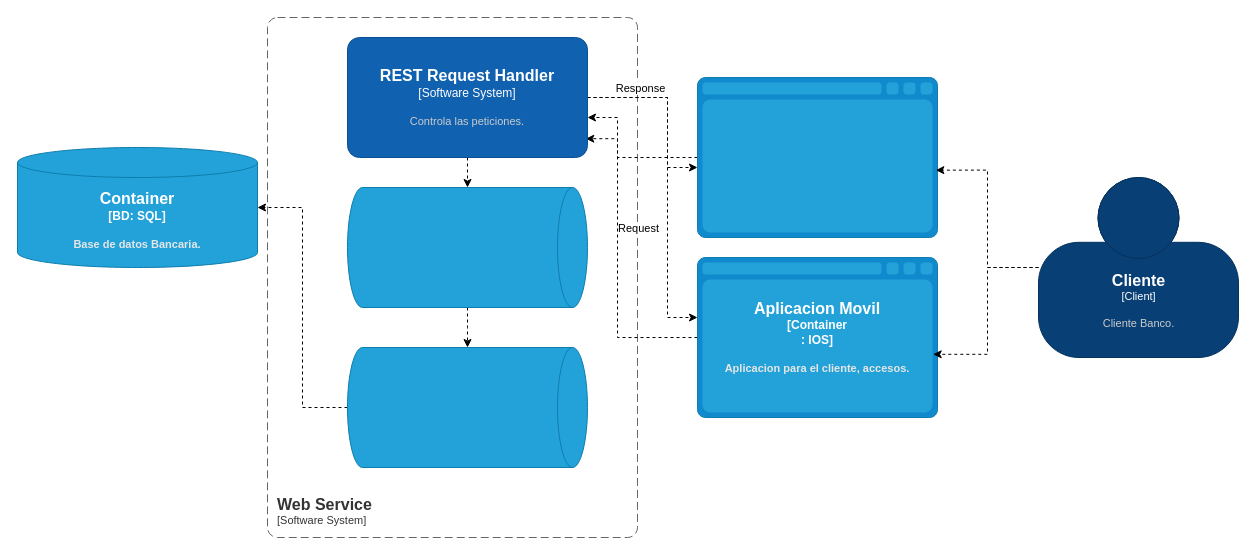
Image size: 1256x555. Some labels were removed from this diagram. Each missing label, with the centre of its shape:
Aplicacion Web [Container : Django] Aplicacion para el cliente.: pixel 817 157
Database Handler [Contenedor: Lumen] Lee la base de datos: pixel 467 407
Service Handler [Contenedor: Lumen] Procesa petición y prepara la respuesta.: pixel 467 247
